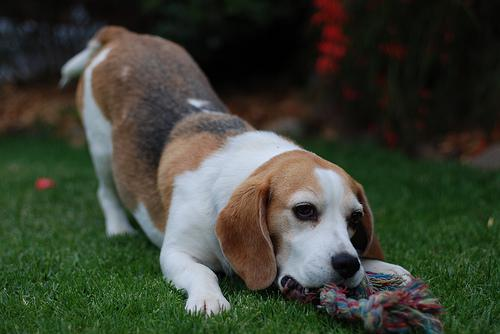dog-beagle: (214, 151, 374, 296)
